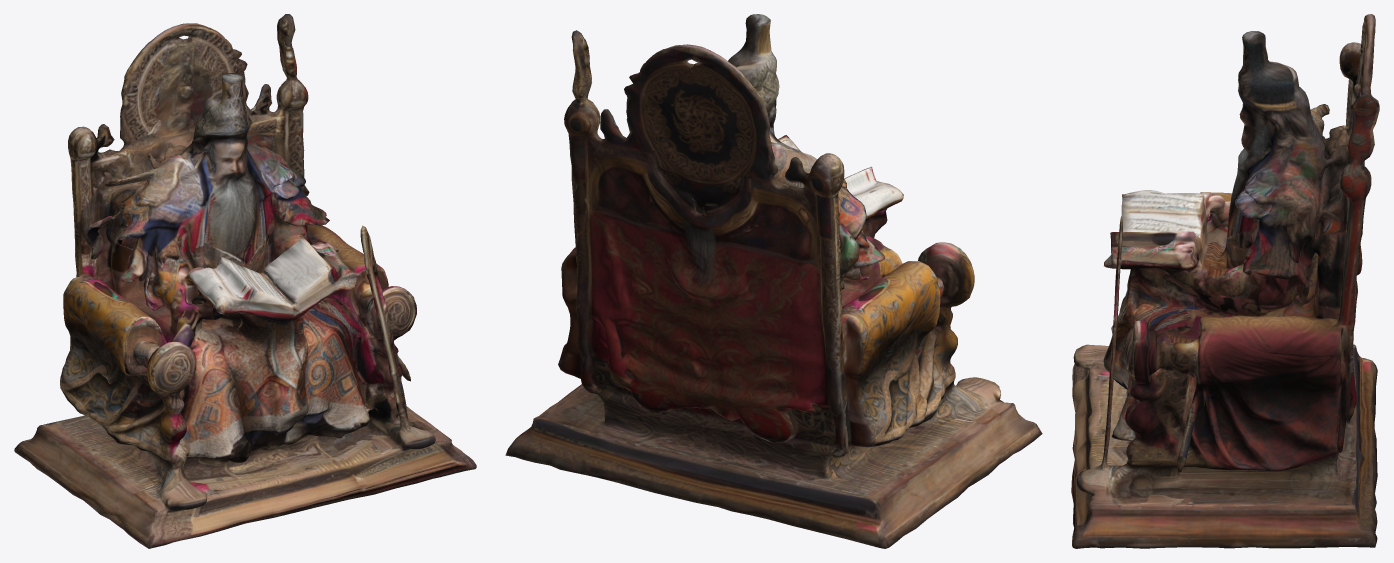
Rendered from king.glb.
The picture shows the model from 3 angles, left to right: view 1: azimuth 30°, elevation 25°; view 2: azimuth 150°, elevation 25°; view 3: azimuth 270°, elevation 25°; orthographic projection. The views are drawn at different scales.
Bounding box in the file's own units: 1.78 × 1.99 × 1.27.
Materials: 1 (1 with a texture image).
